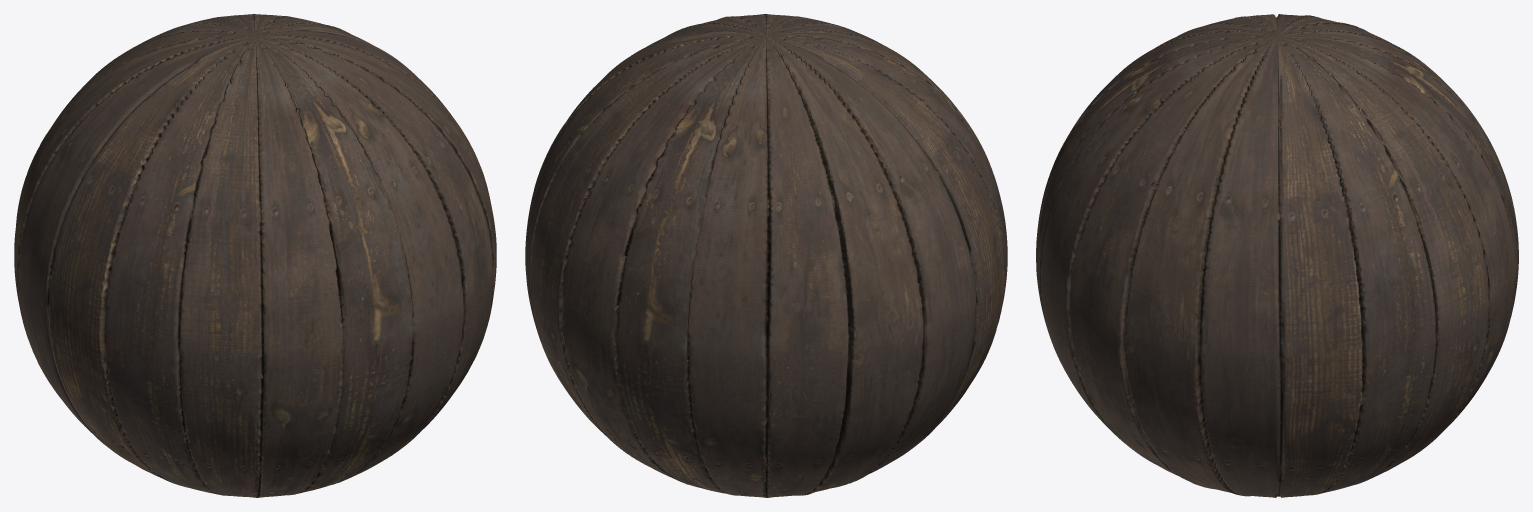
The model's file is weathered_planks_4k.gltf.
The picture shows the model from 3 angles, left to right: view 1: azimuth 30°, elevation 25°; view 2: azimuth 150°, elevation 25°; view 3: azimuth 270°, elevation 25°; orthographic projection.
Visible parts, largest first — view 1: sphere_gltf; view 2: sphere_gltf; view 3: sphere_gltf.
Boxes of the visible parts, x1=… form: sphere_gltf: x1=14, y1=14, x2=496, y2=497; sphere_gltf: x1=525, y1=14, x2=1007, y2=497; sphere_gltf: x1=1036, y1=14, x2=1518, y2=497.
Size of the model in its own units: 2.04 by 2.05 by 2.04.
1 material, 1 textured.
